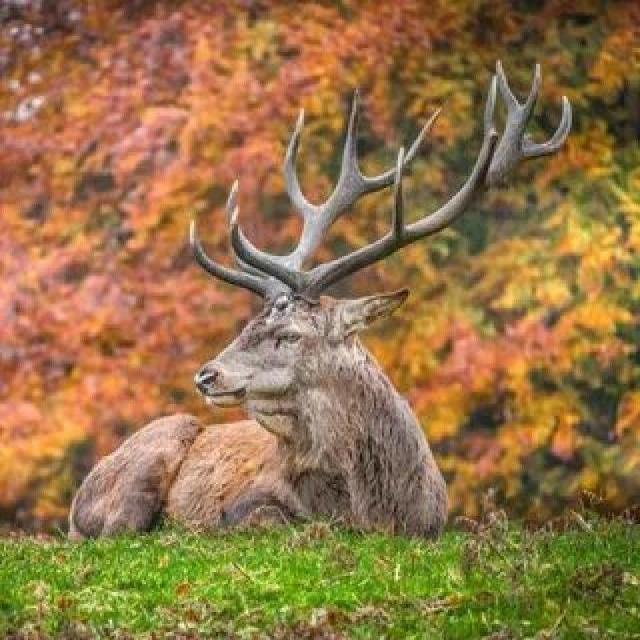deer: (90, 78, 554, 557)
